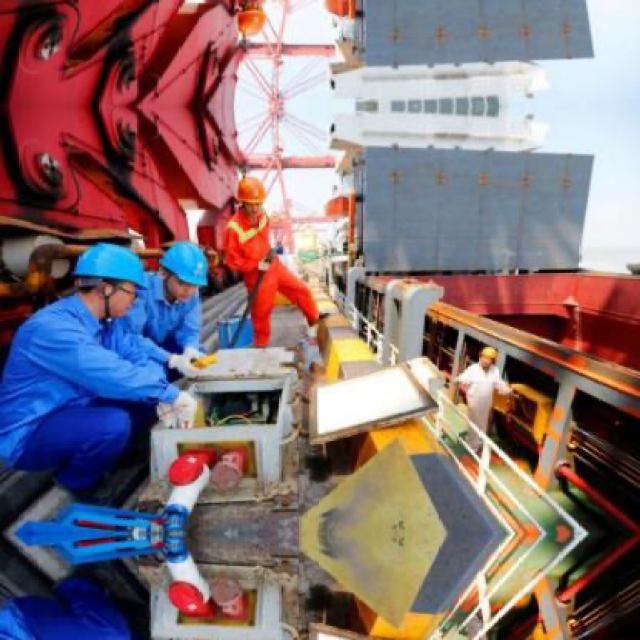helmet: (70, 236, 152, 319), (157, 240, 208, 300), (234, 173, 271, 222), (232, 0, 271, 42), (478, 346, 500, 368)
